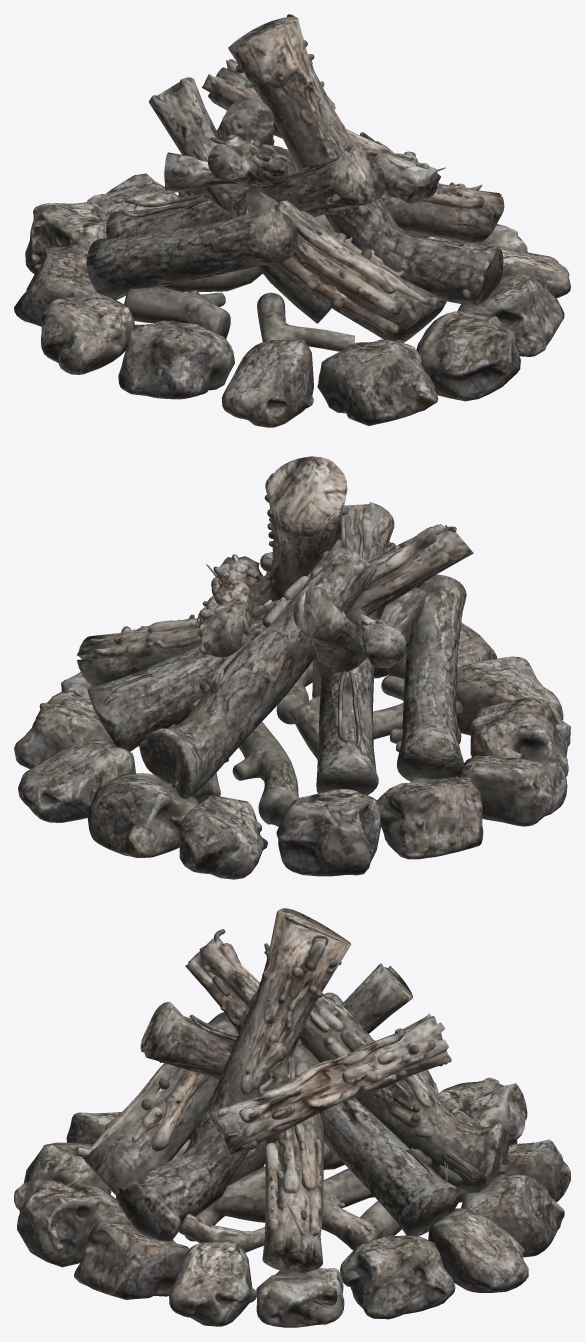
The model's file is campfire.glb.
The picture shows the model from 3 angles, top to bottom: view 1: azimuth 30°, elevation 25°; view 2: azimuth 150°, elevation 25°; view 3: azimuth 270°, elevation 25°; orthographic projection. The views are drawn at different scales.
Visible parts, largest first — view 1: tripo_node_9e599d4f-38f5-4c8a-bab7-8bb112a9ac7e; view 2: tripo_node_9e599d4f-38f5-4c8a-bab7-8bb112a9ac7e; view 3: tripo_node_9e599d4f-38f5-4c8a-bab7-8bb112a9ac7e.
Boxes of the visible parts, bbox=[...] form: tripo_node_9e599d4f-38f5-4c8a-bab7-8bb112a9ac7e: bbox=[14, 14, 570, 427]; tripo_node_9e599d4f-38f5-4c8a-bab7-8bb112a9ac7e: bbox=[14, 456, 570, 879]; tripo_node_9e599d4f-38f5-4c8a-bab7-8bb112a9ac7e: bbox=[14, 908, 570, 1327].
Bounding box in the file's own units: 0.9868 × 0.604 × 0.9995.
1 material, 1 textured.
